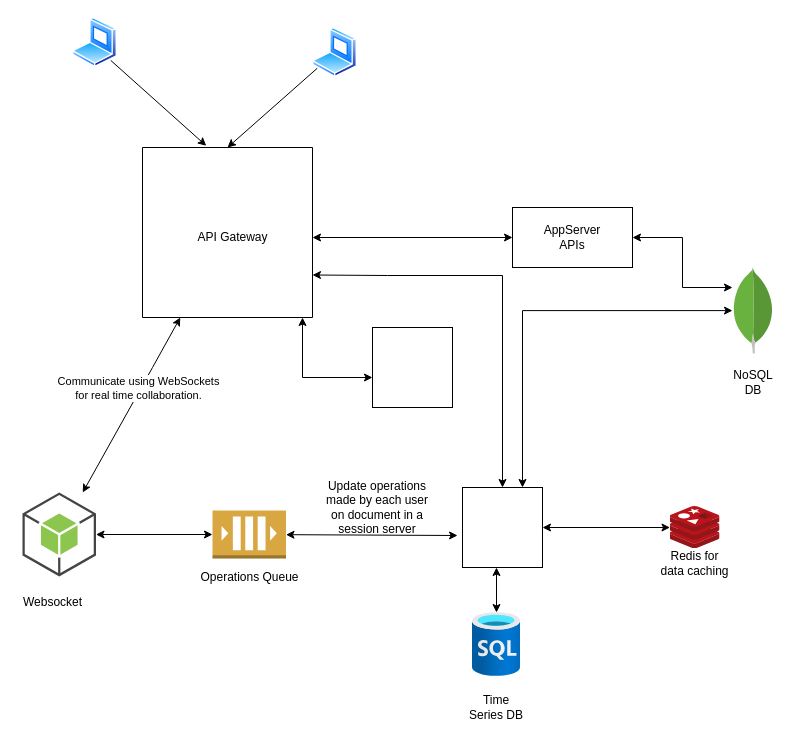
This 800x739 diagram has some shape labels left out. The centre of each missing label's shape, as x and y in pixels:
Authentication/ Authorization: [412,367]
Session Server: [502,527]
